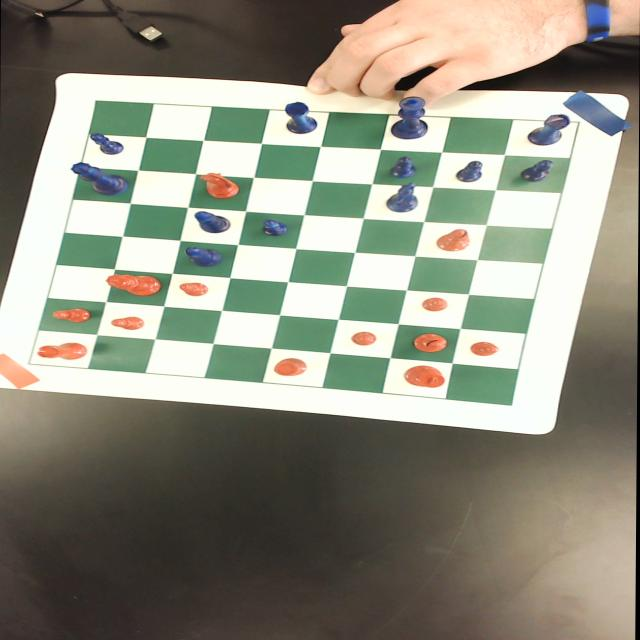B: (192, 210, 232, 233), (183, 246, 224, 268)
K: (389, 96, 428, 140)
N: (385, 184, 418, 212)
P: (519, 159, 555, 185), (89, 133, 123, 155), (454, 160, 484, 183), (387, 156, 417, 178), (260, 219, 288, 237)
Q: (69, 162, 127, 196)
R: (526, 114, 571, 146), (283, 102, 315, 134)
b: (435, 229, 470, 251), (412, 334, 447, 353)
k: (402, 365, 444, 388)
n: (198, 172, 240, 199)
p: (52, 308, 92, 323), (110, 316, 144, 331), (469, 341, 499, 357), (350, 331, 379, 346), (178, 282, 208, 296), (421, 298, 448, 312)
q: (104, 274, 162, 296)
r: (36, 342, 87, 360), (273, 358, 307, 376)
